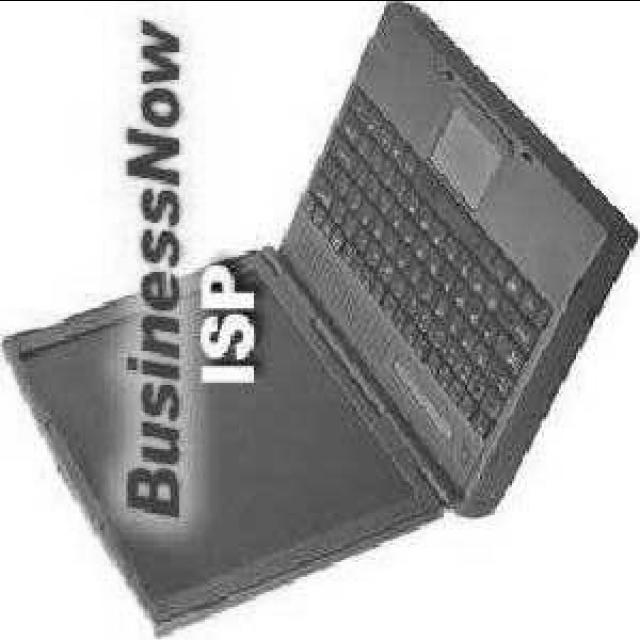laptop: (9, 12, 634, 640)
